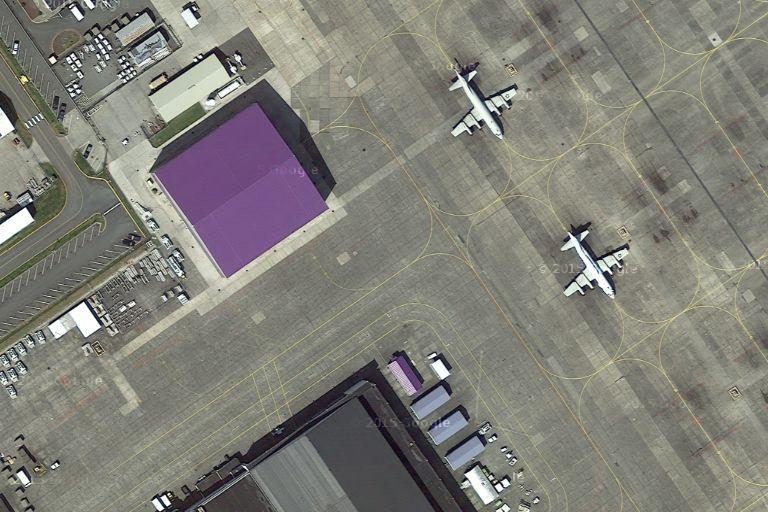EP-3: (554, 227, 634, 302)
P-3C: (441, 64, 523, 145)
